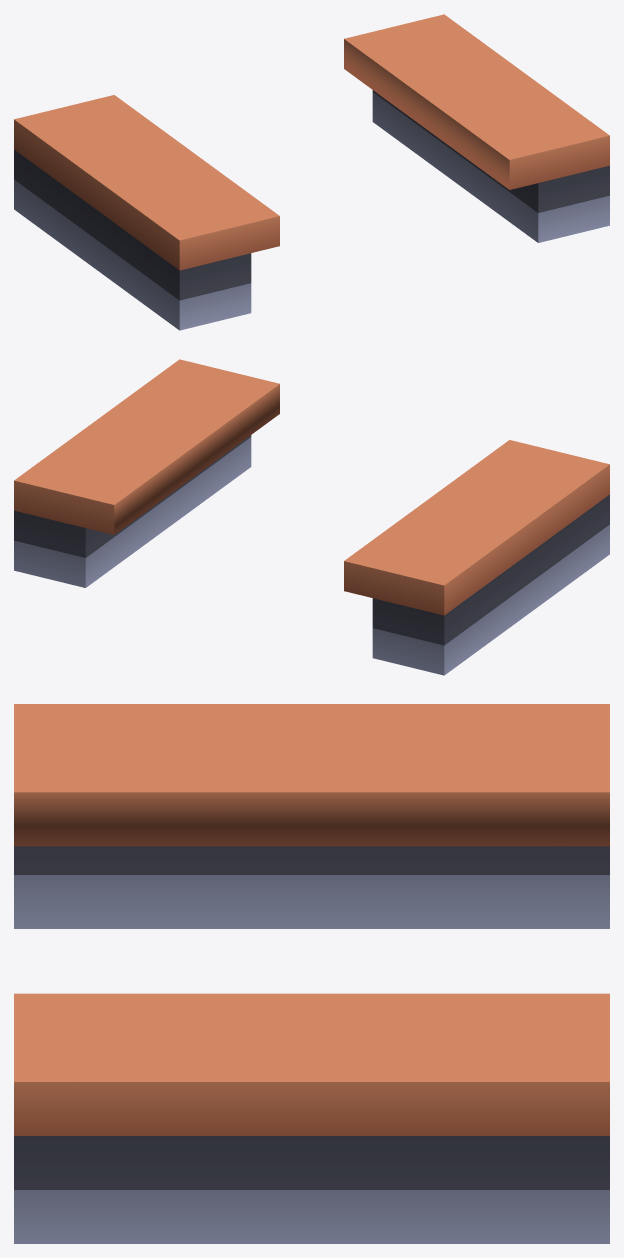
Rendered from kenney-coaster-station.glb.
3 views of the same model, one above another, from view 1: azimuth 30°, elevation 25°; view 2: azimuth 150°, elevation 25°; view 3: azimuth 270°, elevation 25° (orthographic). The views are drawn at different scales.
Visible parts, largest first — view 1: station; view 2: station; view 3: station.
Part boxes in pixels (x1,y1,x2,y2): station: (14,14,609,330); station: (14,359,609,675); station: (14,704,609,1243).
Size of the model in its own units: 1.5 by 0.2999 by 1.
Materials: 1 (1 with a texture image).
